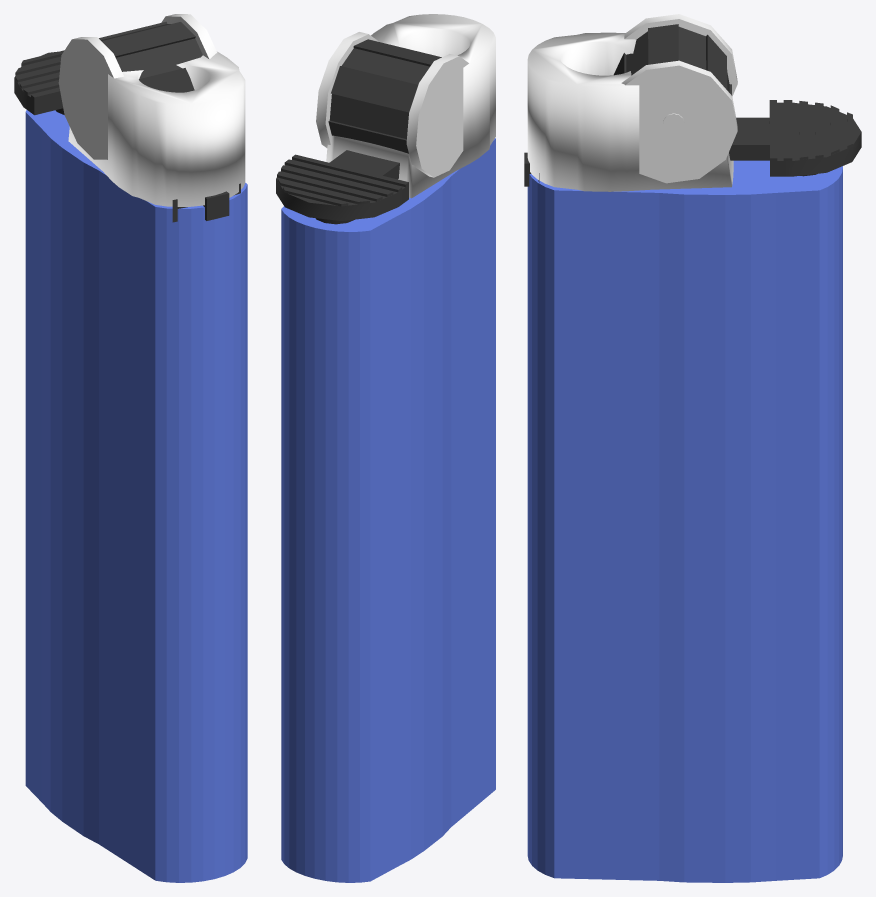
The model's file is lighter.glb.
The picture shows the model from 3 angles, left to right: view 1: azimuth 30°, elevation 25°; view 2: azimuth 150°, elevation 25°; view 3: azimuth 270°, elevation 25°; orthographic projection. The views are drawn at different scales.
Visible parts, largest first — view 1: Cylinder, Cylinder.001, Object_32, Object_36, Object_26; view 2: Cylinder, Object_32, Cylinder.001, Object_36; view 3: Cylinder, Cylinder.001, Object_32, Object_36.
Part boxes in pixels (x1,y1,x2,y2): Cylinder: (25,110,247,882); Cylinder.001: (68,51,245,206); Object_32: (58,14,217,159); Object_36: (14,50,64,115); Object_26: (172,183,240,222); Cylinder: (281,138,495,882); Object_32: (316,32,468,177); Cylinder.001: (326,14,495,198); Object_36: (276,150,408,224); Cylinder: (527,160,842,882); Cylinder.001: (527,32,733,191); Object_32: (613,14,737,183); Object_36: (729,100,861,176).
Size of the model in its own units: 0.0299 by 0.1939 by 0.0727.
